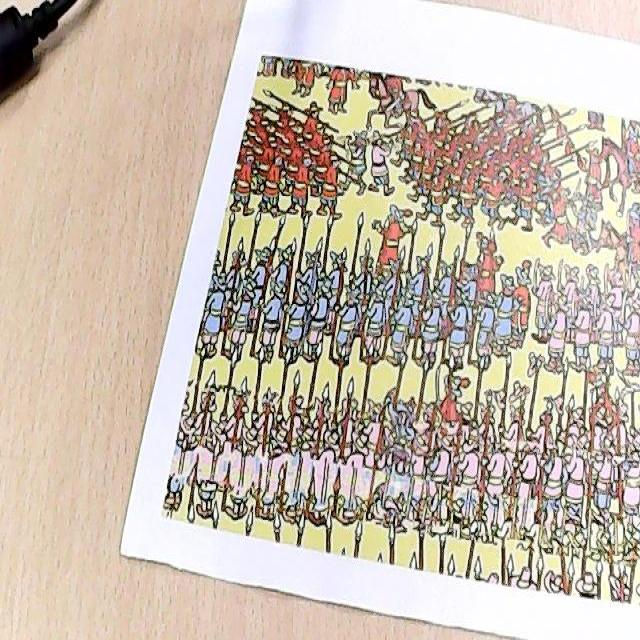waldo: (457, 256, 474, 283)
